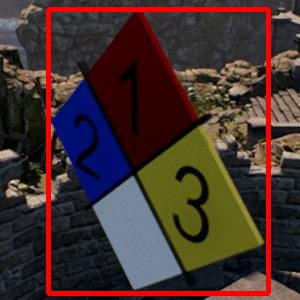nfpa: (48, 9, 268, 293)
